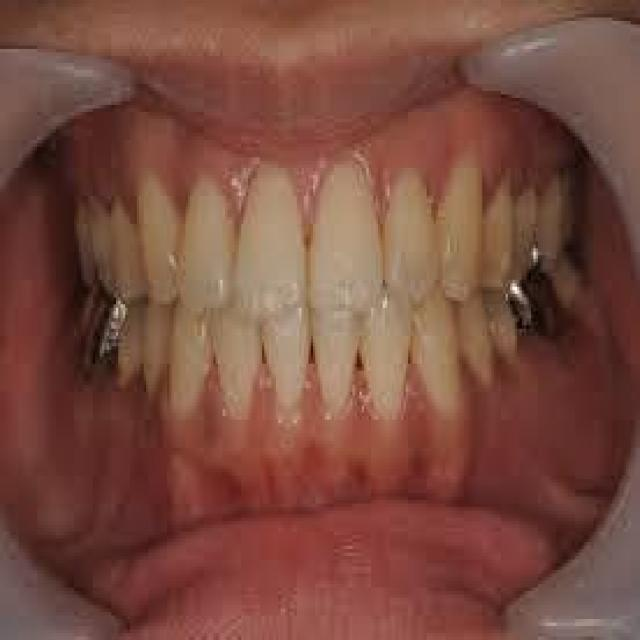Tooth: (234, 154, 308, 322), (308, 157, 385, 311), (408, 269, 464, 420), (181, 171, 239, 315), (383, 168, 443, 304), (436, 143, 485, 304), (359, 283, 410, 420), (260, 294, 311, 430), (137, 168, 183, 304), (209, 294, 260, 416), (308, 308, 362, 420), (167, 294, 211, 423), (478, 168, 515, 287), (503, 189, 540, 297), (457, 287, 496, 388), (111, 199, 148, 301), (144, 294, 172, 402), (482, 287, 517, 367), (118, 297, 146, 388), (538, 182, 566, 273), (88, 196, 114, 294), (77, 199, 97, 287)
